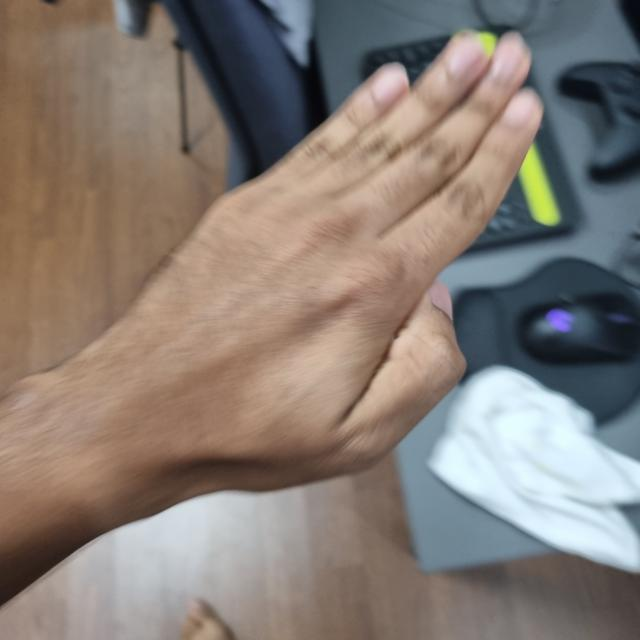Paper: (82, 36, 540, 492)
